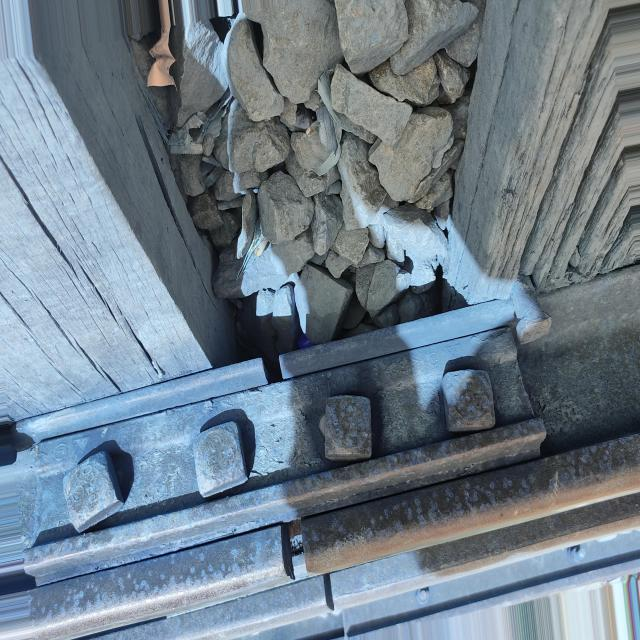crack: (264, 526, 338, 594), (247, 340, 308, 404), (308, 564, 366, 629)
